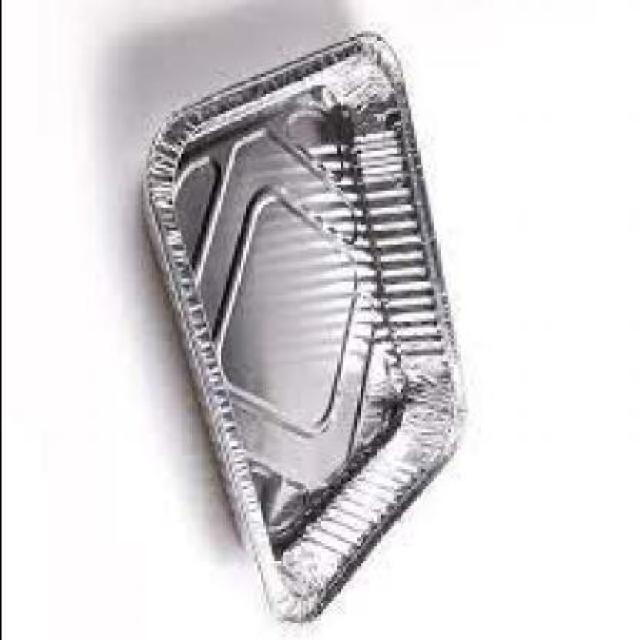METAL: (145, 28, 469, 622)
